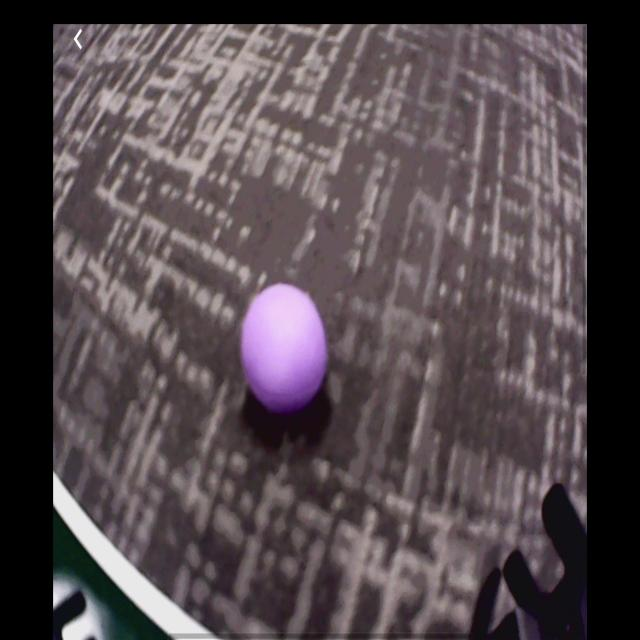ball: (242, 284, 328, 410)
